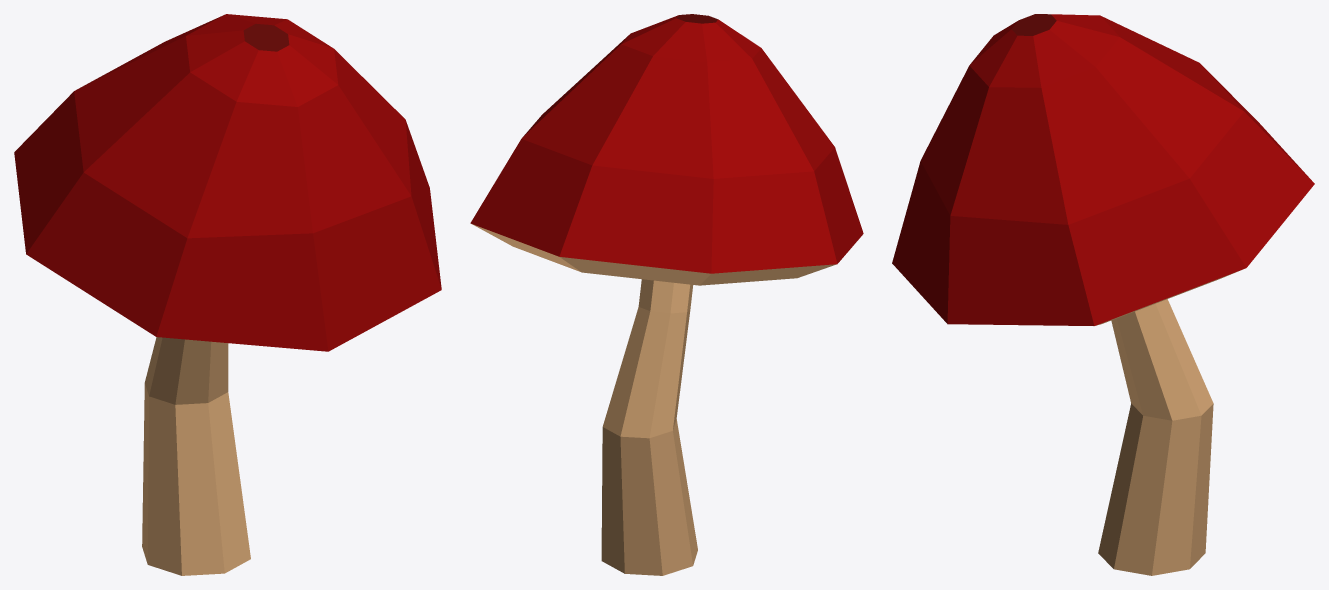
Rendered from mushroom2.fbx.
3 views of the same model, side by side, from view 1: azimuth 30°, elevation 25°; view 2: azimuth 150°, elevation 25°; view 3: azimuth 270°, elevation 25° (orthographic). The views are drawn at different scales.
Visible parts, largest first — view 1: Circle; view 2: Circle; view 3: Circle.
Boxes of the visible parts, x1=… form: Circle: x1=14, y1=14, x2=441, y2=575; Circle: x1=470, y1=14, x2=863, y2=575; Circle: x1=892, y1=14, x2=1314, y2=575.
Size of the model in its own units: 127 by 173 by 124.
